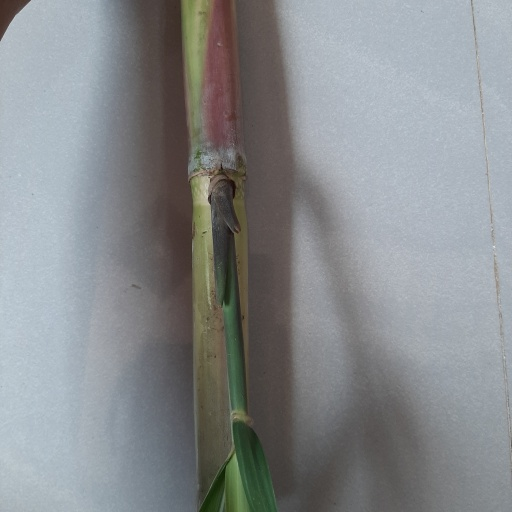Sprouted_Bud: (208, 172, 236, 223)
